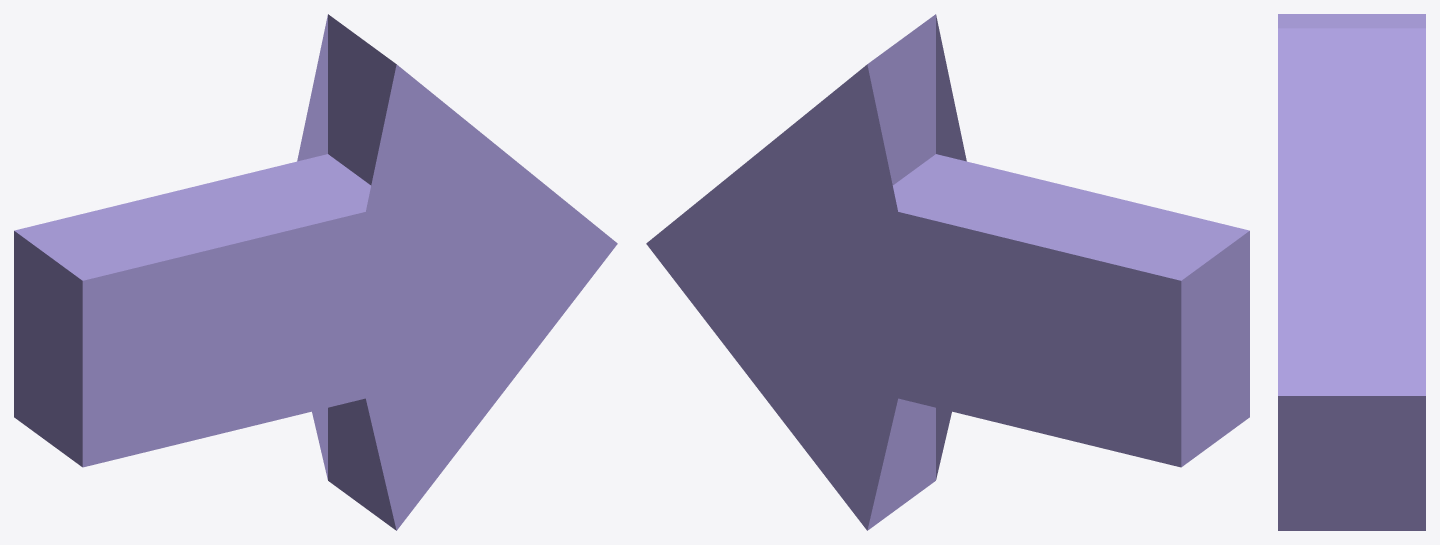
File: pointer_right.glb
3 views of the same model, side by side, from view 1: azimuth 30°, elevation 25°; view 2: azimuth 150°, elevation 25°; view 3: azimuth 270°, elevation 25° (orthographic). The views are drawn at different scales.
Parts seen in each view (by area): view 1: model; view 2: model; view 3: model.
Boxes of the visible parts, x1=… form: model: x1=14, y1=14, x2=617, y2=530; model: x1=646, y1=14, x2=1249, y2=530; model: x1=1278, y1=14, x2=1425, y2=530.
Size of the model in its own units: 0.9 by 0.75 by 0.2.
